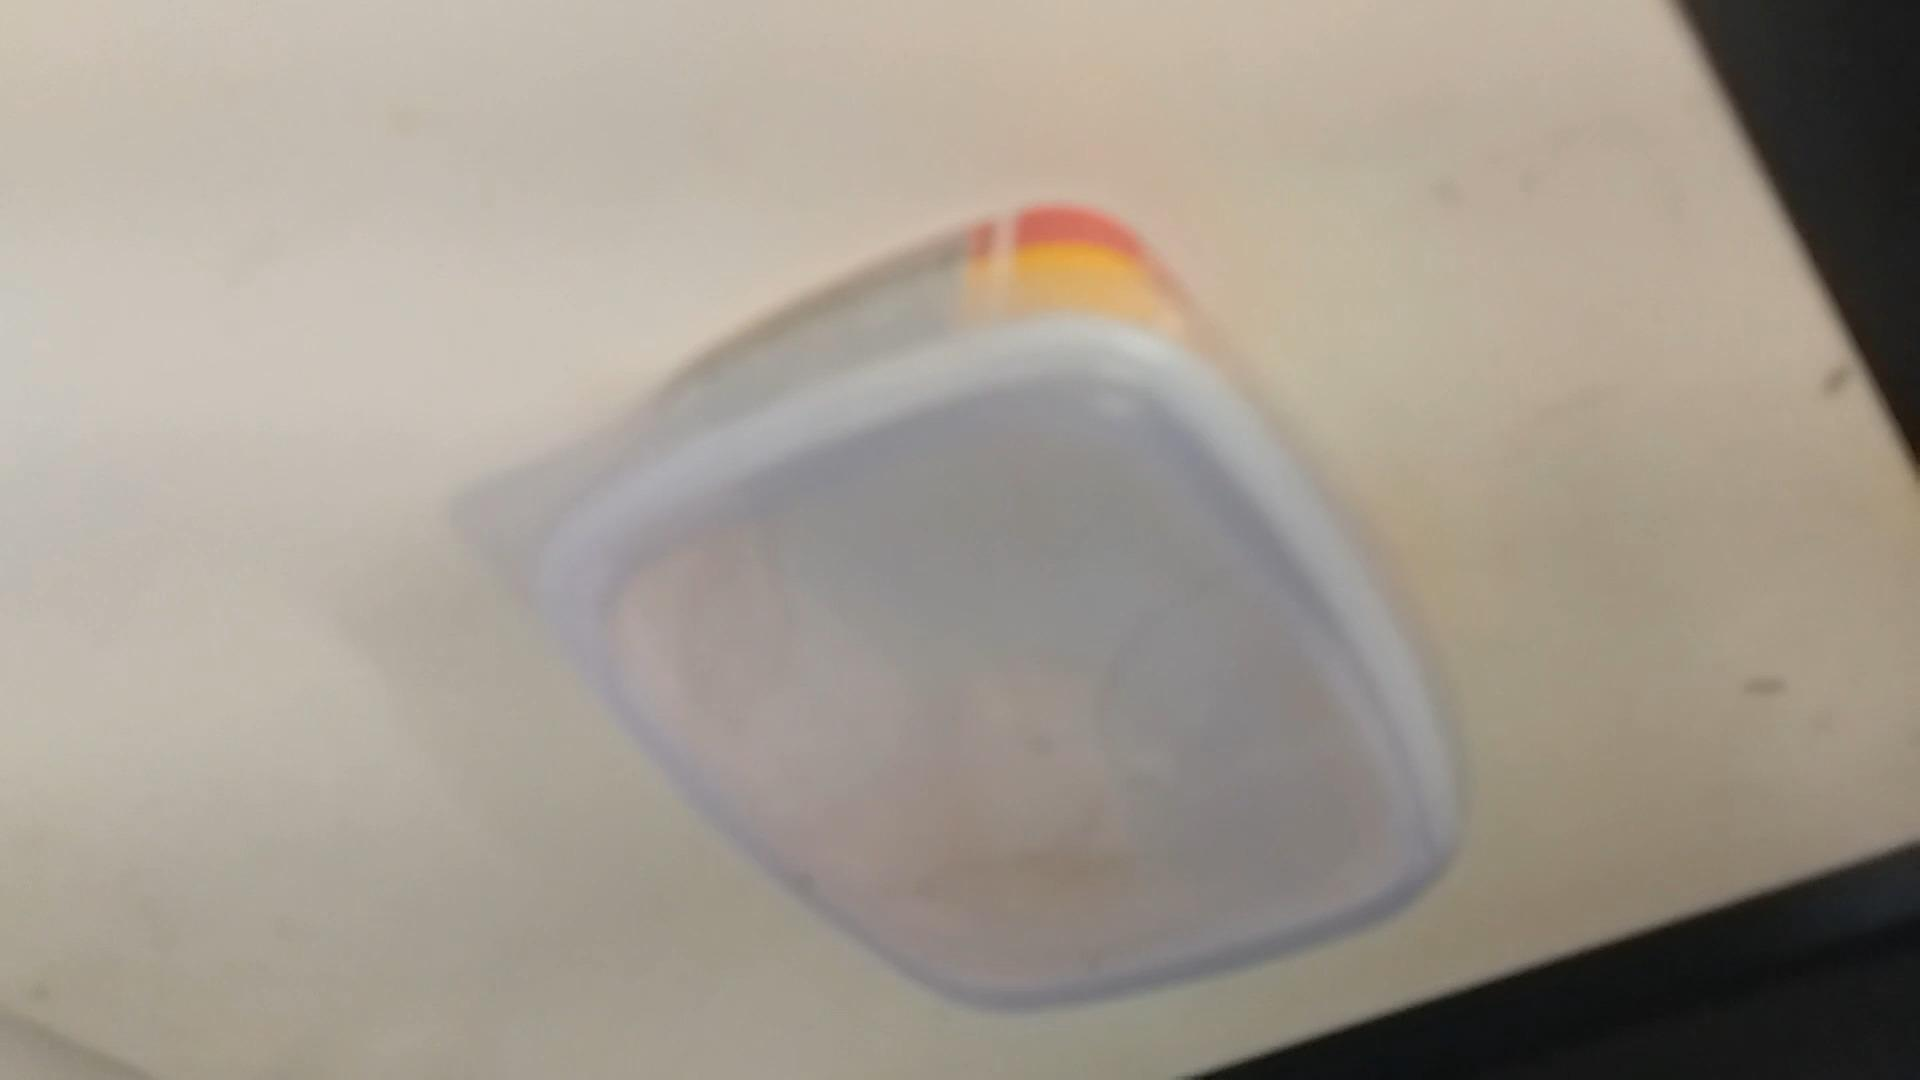butter: (493, 218, 1457, 1023)
